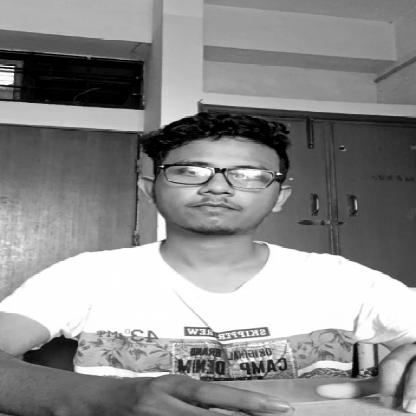Normal: (154, 148, 282, 233)
